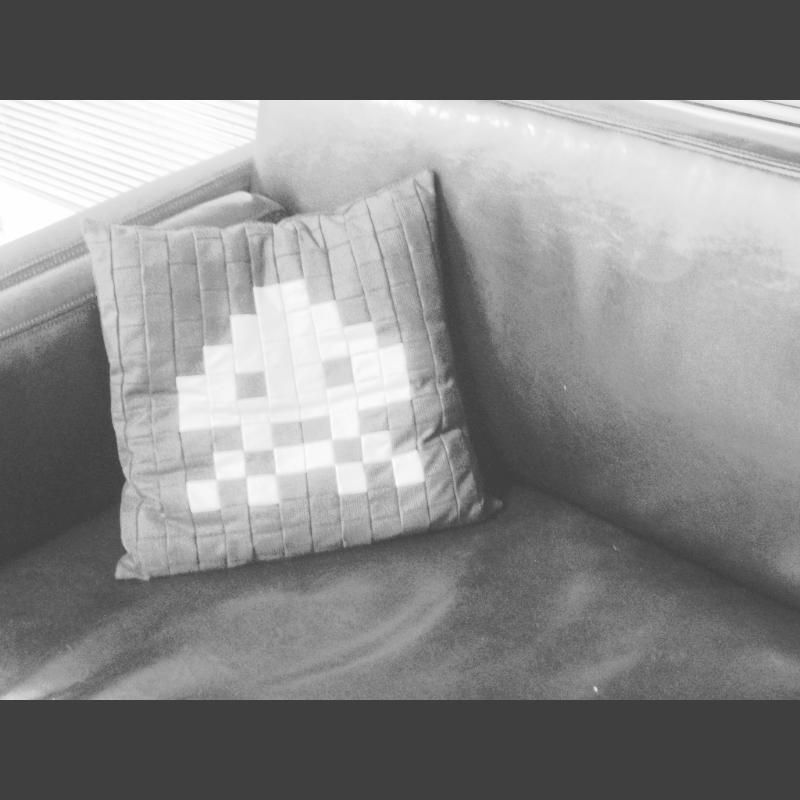pillow: (105, 166, 546, 568)
